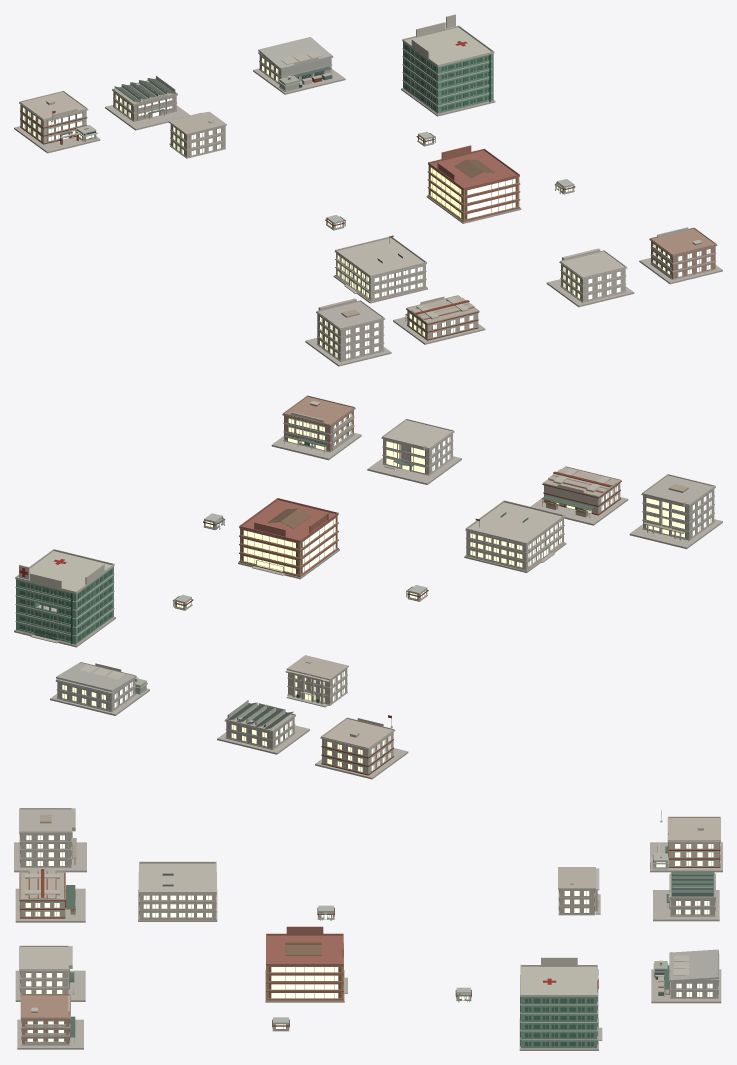
The model's file is world_facilities.glb.
3 views of the same model, one above another, from view 1: azimuth 30°, elevation 25°; view 2: azimuth 150°, elevation 25°; view 3: azimuth 270°, elevation 25° (orthographic). The views are drawn at different scales.
Visible parts, largest first — view 1: Facilities_c3_1, Facilities_c1_0, Facilities_c1_2, Facilities_c2_2, Facilities_c0_3, Facilities_c2_0, Facilities_c0_0, Facilities_c2_3, Facilities_c3_3, Facilities_c1_3, Windows_b_14_0, Windows_b_17_0 (+1 smaller); view 2: Facilities_c3_1, Facilities_c1_0, Facilities_c1_2, Facilities_c2_2, Facilities_c0_3, Facilities_c0_0, Facilities_c3_3, Facilities_c2_3, Facilities_c1_3, Facilities_c2_0, Windows_b_14_0, Windows_b_17_0 (+2 smaller); view 3: Facilities_c3_1, Facilities_c1_0, Facilities_c2_2, Facilities_c1_2, Facilities_c0_3, Facilities_c0_0, Facilities_c2_0, Facilities_c3_3, Facilities_c1_3, Facilities_c2_3, Windows_b_14_0, Windows_b_17_0 (+1 smaller).
Part boxes in pixels (x1,y1,x2,y2): Facilities_c3_1: [401, 14, 495, 116]; Facilities_c1_0: [105, 75, 226, 158]; Facilities_c1_2: [325, 215, 427, 303]; Facilities_c2_2: [426, 145, 521, 223]; Facilities_c0_3: [305, 298, 391, 366]; Facilities_c2_0: [253, 37, 345, 94]; Facilities_c0_0: [14, 91, 100, 153]; Facilities_c2_3: [546, 248, 634, 307]; Facilities_c3_3: [639, 227, 722, 284]; Facilities_c1_3: [393, 295, 485, 344]; Windows_b_14_0: [430, 167, 515, 218]; Windows_b_17_0: [337, 255, 422, 297]; Facilities_c3_1: [14, 549, 115, 647]; Facilities_c1_0: [217, 655, 348, 754]; Facilities_c1_2: [406, 500, 566, 601]; Facilities_c2_2: [238, 498, 339, 579]; Facilities_c0_3: [629, 474, 722, 549]; Facilities_c0_0: [315, 715, 408, 779]; Facilities_c3_3: [271, 395, 361, 460]; Facilities_c2_3: [367, 419, 461, 484]; Facilities_c1_3: [530, 466, 628, 525]; Facilities_c2_0: [50, 662, 149, 715]; Windows_b_14_0: [243, 518, 335, 573]; Windows_b_17_0: [470, 521, 561, 566]; Facilities_c3_1: [519, 957, 602, 1050]; Facilities_c1_0: [558, 867, 719, 921]; Facilities_c2_2: [265, 926, 347, 1002]; Facilities_c1_2: [138, 861, 334, 921]; Facilities_c0_3: [14, 808, 86, 872]; Facilities_c0_0: [650, 810, 722, 872]; Facilities_c2_0: [651, 949, 721, 1003]; Facilities_c3_3: [17, 994, 83, 1049]; Facilities_c1_3: [15, 869, 85, 922]; Facilities_c2_3: [15, 945, 85, 1001]; Windows_b_14_0: [271, 967, 338, 998]; Windows_b_17_0: [143, 895, 211, 917].
Size of the model in its own units: 154 by 23.81 by 223.
